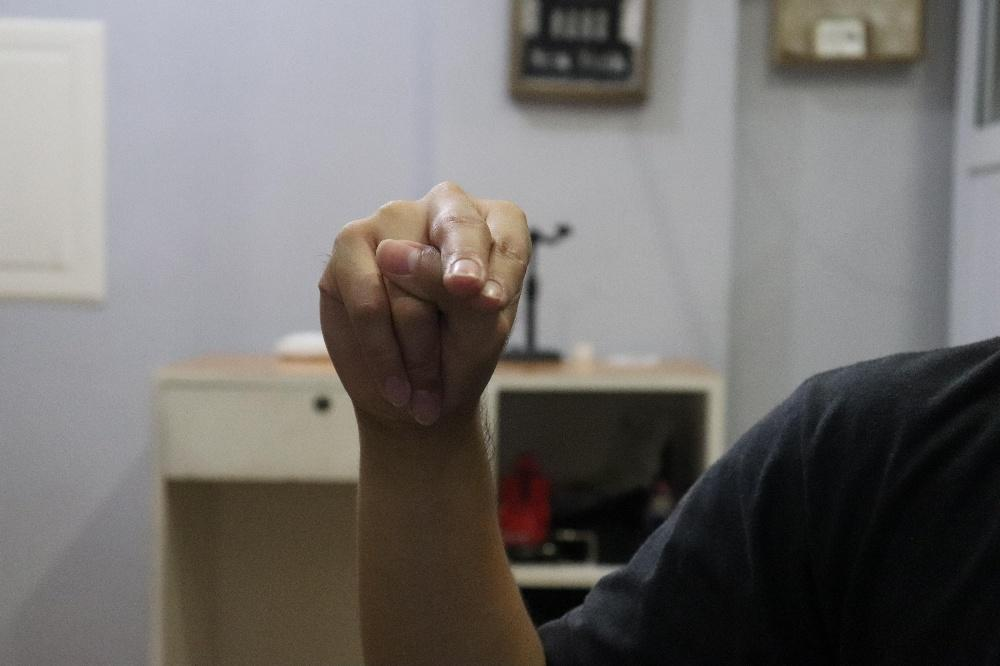n: (318, 180, 533, 429)
